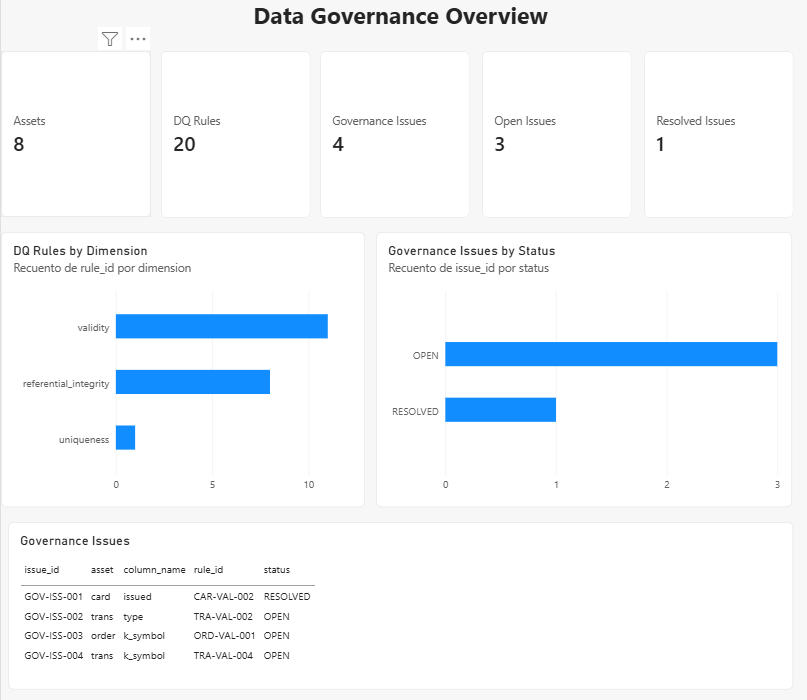

The page's visual inventory and layout, read from the dashboard file:
{"tool":"powerbi","page":{"name":"Governance Overview","canvas":[1920,1080],"ordinal":0},"visuals":[{"type":"cardVisual","fields":{"Data":["_Measures.Assets"]},"box":[0,71.5,207.2,230.5],"z":0},{"type":"cardVisual","fields":{"Data":["_Measures.DQ Rules"]},"box":[221.8,71.5,207,231],"z":1000},{"type":"cardVisual","fields":{"Data":["_Measures.Governance Issues"]},"box":[442.1,71.5,207,231],"z":2000},{"type":"cardVisual","fields":{"Data":["_Measures.Open Issues"]},"box":[665.3,71.5,207,231],"z":3000},{"type":"cardVisual","fields":{"Data":["_Measures.Resolved Issues"]},"box":[890,71.5,207,231],"z":4000},{"type":"textbox","box":[10.2,0,1086.9,52.5],"z":5000},{"type":"clusteredBarChart","title":"DQ Rules by Dimension","fields":{"Category":["dq_evaluations.dimension"],"Y":["Count(dq_evaluations.rule_id)"]},"box":[0,322.9,504,381.2],"z":6000},{"type":"clusteredBarChart","title":"Governance Issues by Status","fields":{"Category":["governance_issues.status"],"Y":["Count(governance_issues.issue_id)"]},"box":[519.8,322.9,576.5,381.2],"z":7000},{"type":"tableEx","title":"Governance Issues","fields":{"Values":["governance_issues.issue_id","governance_issues.asset","governance_issues.column_name","governance_issues.rule_id","governance_issues.status"]},"box":[9.5,724.5,1086.8,231.5],"z":8000}]}

Visuals, with their boxes on the page's 1920x1080 design canvas (x1, y1, x2, y2). These are canvas units, not pixel positions in the 807x700 screenshot, which may show the page scaled, cropped or inside an application window:
cardVisual - _Measures.Assets: detection(0, 72, 207, 302)
cardVisual - _Measures.DQ Rules: detection(222, 72, 429, 302)
cardVisual - _Measures.Governance Issues: detection(442, 72, 649, 302)
cardVisual - _Measures.Open Issues: detection(665, 72, 872, 302)
cardVisual - _Measures.Resolved Issues: detection(890, 72, 1097, 302)
textbox: detection(10, 0, 1097, 52)
"DQ Rules by Dimension" clusteredBarChart: detection(0, 323, 504, 704)
"Governance Issues by Status" clusteredBarChart: detection(520, 323, 1096, 704)
"Governance Issues" tableEx: detection(10, 724, 1096, 956)
